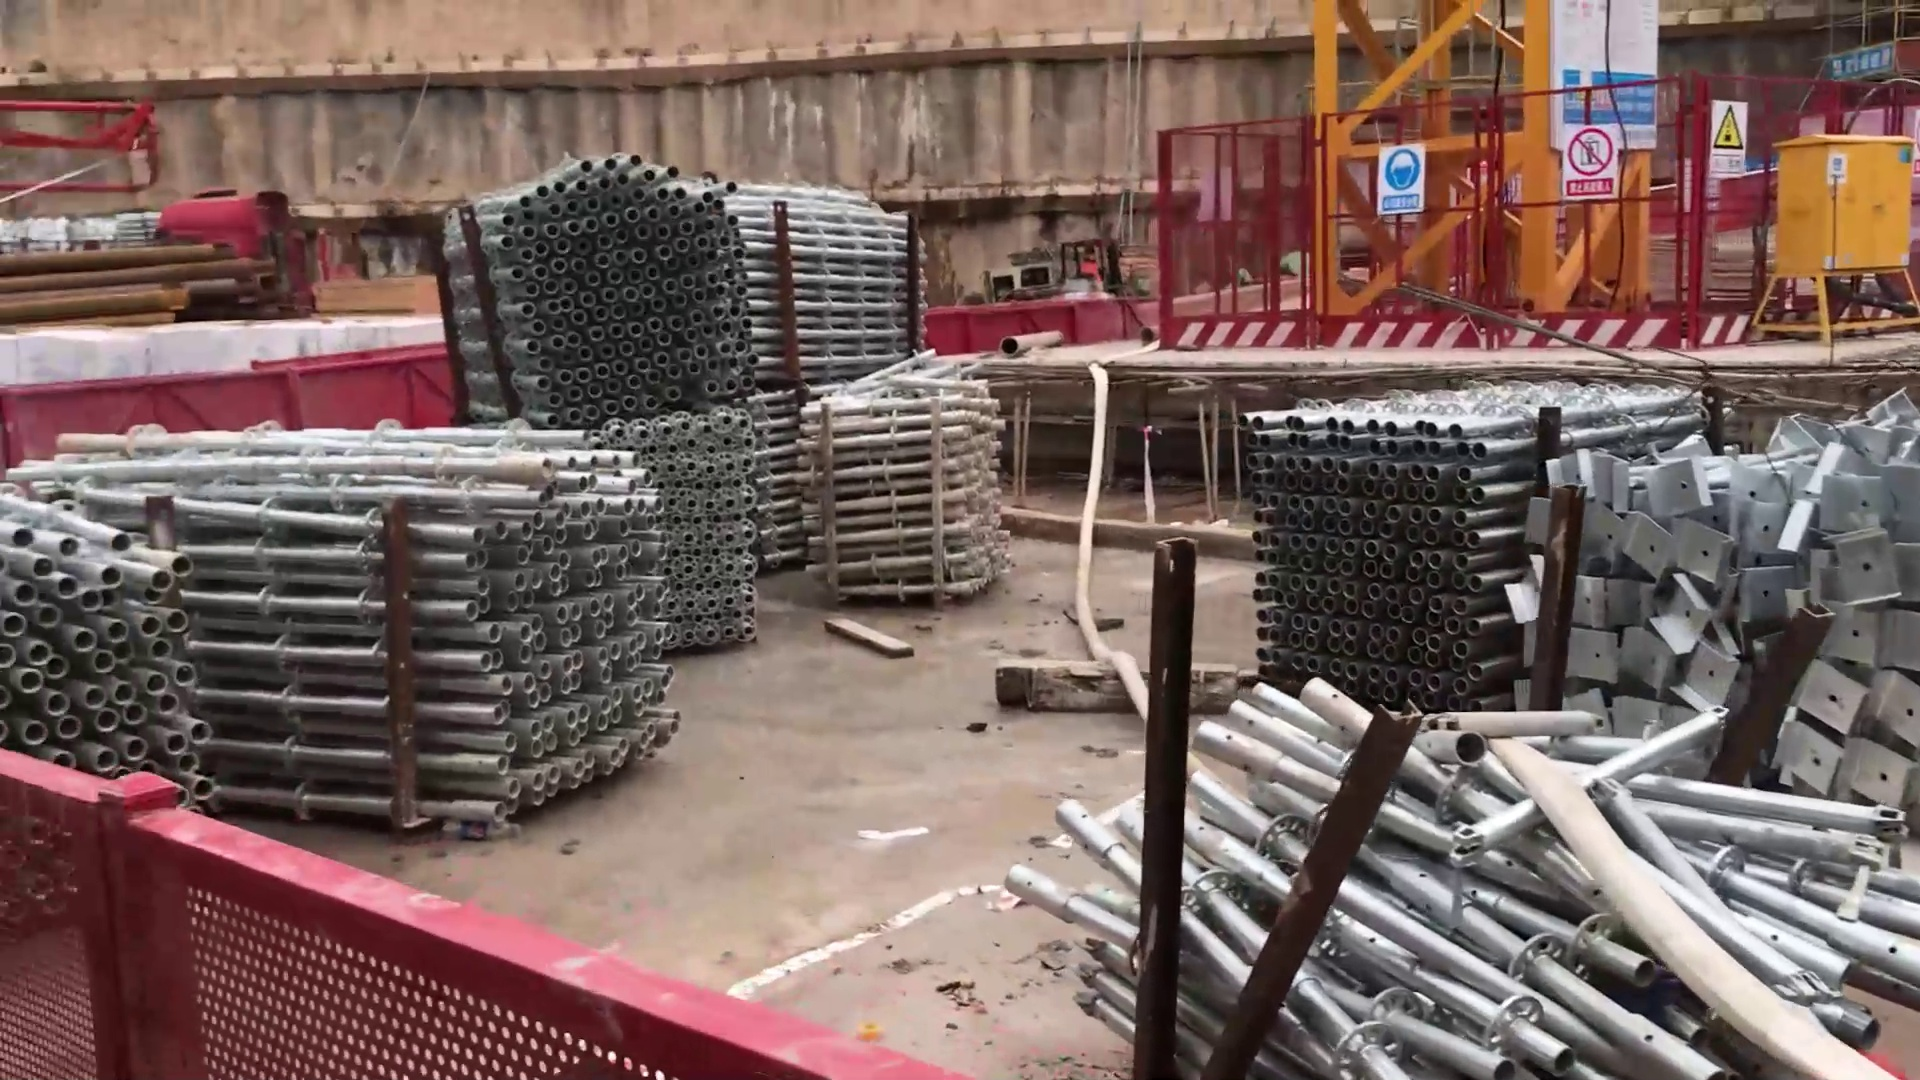ebox: (1768, 119, 1920, 363)
fence: (98, 789, 873, 1080), (1155, 99, 1333, 349)
scaffold: (1056, 675, 1913, 1080), (1, 425, 696, 852), (1265, 386, 1911, 735), (488, 152, 942, 402), (806, 364, 1022, 589)
slogan: (1548, 5, 1675, 161), (1701, 90, 1767, 190), (1553, 131, 1626, 208), (1374, 144, 1433, 216), (1825, 34, 1902, 79)
wood: (316, 260, 444, 326)
